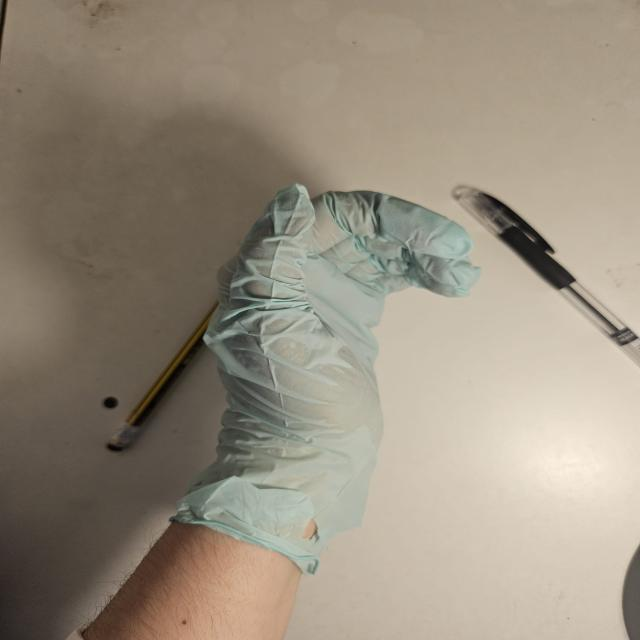gloves_damaged: (164, 180, 481, 578)
